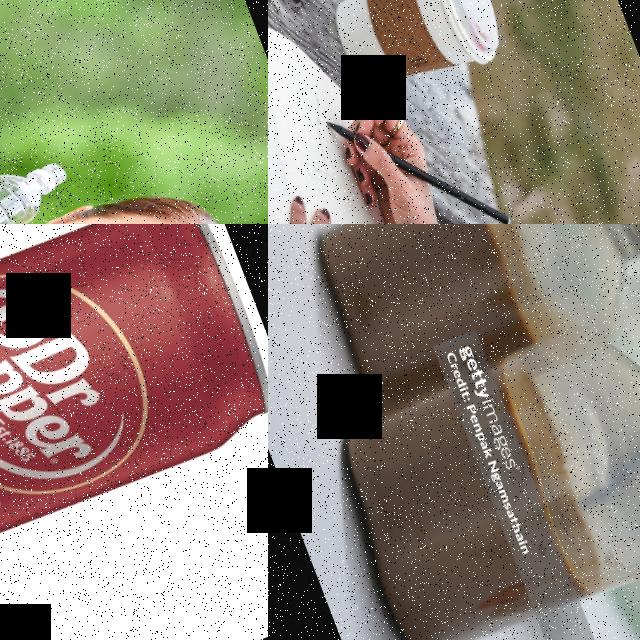bottle: (313, 275, 640, 640), (290, 224, 640, 423)
can: (0, 224, 268, 640)
cup: (316, 0, 512, 113)
